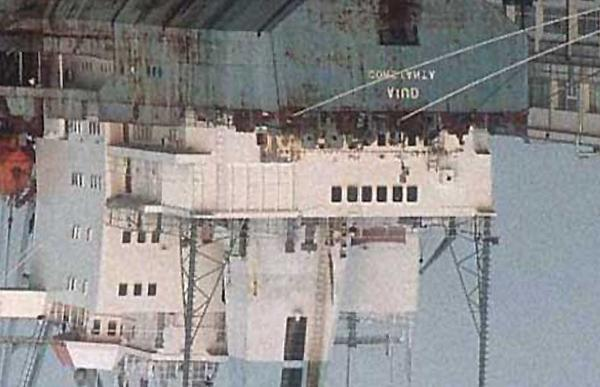rust: (15, 1, 247, 36), (331, 3, 383, 131), (398, 108, 531, 138), (212, 110, 317, 131), (3, 133, 29, 212)
